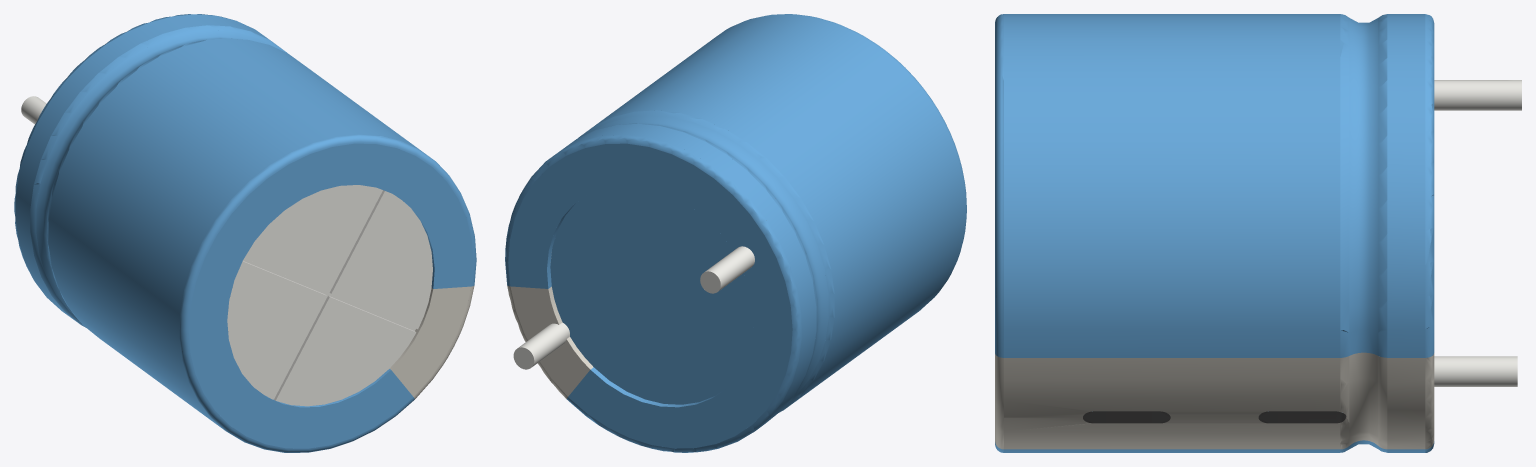
The model's file is CP_Radial_D10.0mm_P5.00mm_P7.50mm.glb.
3 views of the same model, side by side, from view 1: azimuth 30°, elevation 25°; view 2: azimuth 150°, elevation 25°; view 3: azimuth 270°, elevation 25° (orthographic). The views are drawn at different scales.
Parts seen in each view (by area): view 1: Shape_IndexedFaceSet.023, Shape_IndexedFaceSet.029, Shape_IndexedFaceSet.036, Shape_IndexedFaceSet.032, Shape_IndexedFaceSet.040, Shape_IndexedFaceSet.043, Shape_IndexedFaceSet.014, Shape_IndexedFaceSet.027, Shape_IndexedFaceSet.018, Shape_IndexedFaceSet.028, Shape_IndexedFaceSet.016, Shape_IndexedFaceSet.034 (+3 smaller); view 2: Shape_IndexedFaceSet.023, Shape_IndexedFaceSet.002, Shape_IndexedFaceSet.009, Shape_IndexedFaceSet.014, Shape_IndexedFaceSet.012, Shape_IndexedFaceSet.018, Shape_IndexedFaceSet.004, Shape_IndexedFaceSet.020, Shape_IndexedFaceSet.001, Shape_IndexedFaceSet.006, Shape_IndexedFaceSet.016, Shape_IndexedFaceSet.027 (+1 smaller); view 3: Shape_IndexedFaceSet.023, Shape_IndexedFaceSet.021, Shape_IndexedFaceSet.014, Shape_IndexedFaceSet.018, Shape_IndexedFaceSet.013, Shape_IndexedFaceSet.016, Shape_IndexedFaceSet.020, Shape_IndexedFaceSet.012, Shape_IndexedFaceSet.027, Shape_IndexedFaceSet.006, Shape_IndexedFaceSet.017, Shape_IndexedFaceSet.001 (+6 smaller).
Boxes of the visible parts, bbox=[...] form: Shape_IndexedFaceSet.023: bbox=[48, 38, 442, 430]; Shape_IndexedFaceSet.029: bbox=[189, 143, 473, 448]; Shape_IndexedFaceSet.036: bbox=[276, 297, 416, 406]; Shape_IndexedFaceSet.032: bbox=[331, 191, 432, 329]; Shape_IndexedFaceSet.040: bbox=[227, 261, 326, 399]; Shape_IndexedFaceSet.043: bbox=[244, 185, 382, 292]; Shape_IndexedFaceSet.014: bbox=[15, 14, 271, 322]; Shape_IndexedFaceSet.027: bbox=[179, 134, 476, 452]; Shape_IndexedFaceSet.018: bbox=[36, 30, 276, 315]; Shape_IndexedFaceSet.028: bbox=[391, 286, 470, 396]; Shape_IndexedFaceSet.016: bbox=[30, 25, 286, 327]; Shape_IndexedFaceSet.034: bbox=[243, 190, 415, 399]; Shape_IndexedFaceSet.023: bbox=[595, 14, 965, 407]; Shape_IndexedFaceSet.002: bbox=[550, 185, 753, 404]; Shape_IndexedFaceSet.009: bbox=[508, 143, 792, 448]; Shape_IndexedFaceSet.014: bbox=[559, 123, 816, 429]; Shape_IndexedFaceSet.012: bbox=[505, 134, 801, 452]; Shape_IndexedFaceSet.018: bbox=[588, 115, 828, 400]; Shape_IndexedFaceSet.004: bbox=[510, 286, 590, 396]; Shape_IndexedFaceSet.020: bbox=[578, 110, 834, 412]; Shape_IndexedFaceSet.001: bbox=[518, 322, 569, 366]; Shape_IndexedFaceSet.006: bbox=[705, 246, 754, 290]; Shape_IndexedFaceSet.016: bbox=[602, 123, 817, 406]; Shape_IndexedFaceSet.027: bbox=[728, 14, 966, 295]; Shape_IndexedFaceSet.023: bbox=[1004, 14, 1340, 452]; Shape_IndexedFaceSet.021: bbox=[1004, 358, 1340, 449]; Shape_IndexedFaceSet.014: bbox=[1387, 14, 1425, 452]; Shape_IndexedFaceSet.018: bbox=[1349, 18, 1378, 448]; Shape_IndexedFaceSet.013: bbox=[1387, 358, 1425, 449]; Shape_IndexedFaceSet.016: bbox=[1378, 14, 1387, 452]; Shape_IndexedFaceSet.020: bbox=[1340, 14, 1349, 452]; Shape_IndexedFaceSet.012: bbox=[1425, 14, 1434, 452]; Shape_IndexedFaceSet.027: bbox=[995, 14, 1003, 452]; Shape_IndexedFaceSet.006: bbox=[1434, 80, 1521, 110]; Shape_IndexedFaceSet.017: bbox=[1349, 352, 1378, 445]; Shape_IndexedFaceSet.001: bbox=[1434, 356, 1517, 386].
Bounding box in the file's own units: 3.94 × 3.93 × 4.72.
